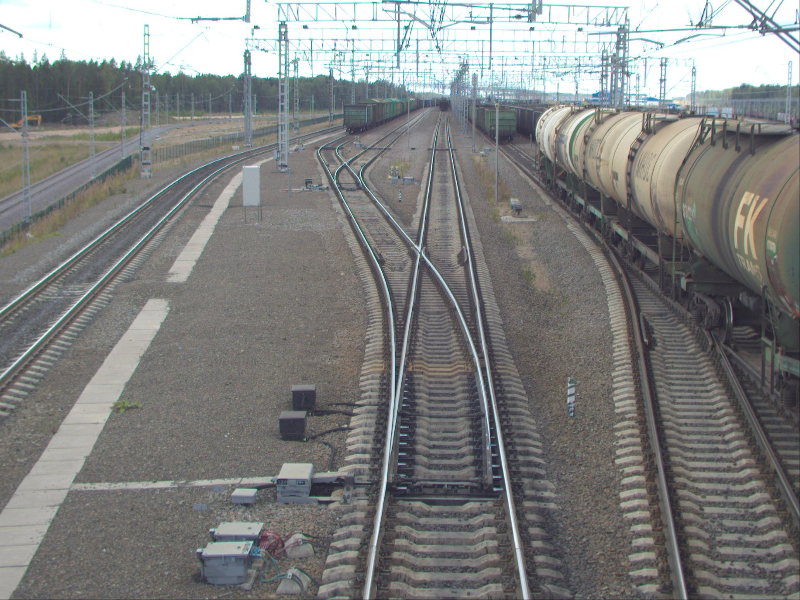right: (374, 256, 510, 485), (324, 162, 368, 188)
